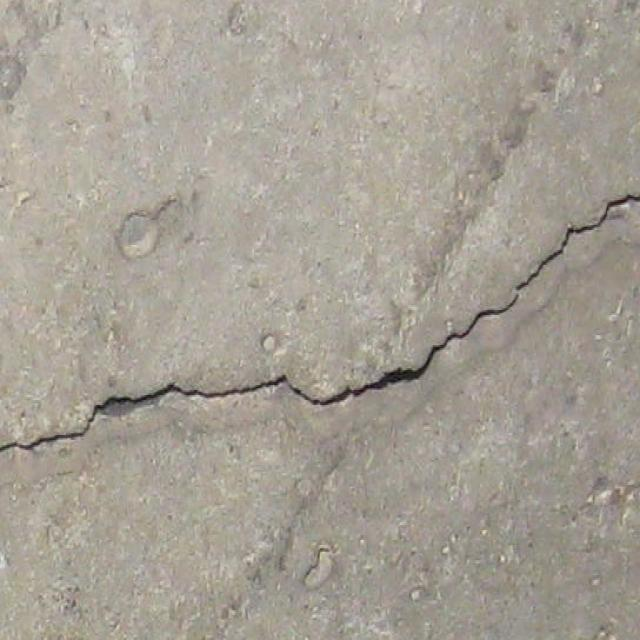crack: (1, 304, 501, 476), (501, 190, 639, 318)
